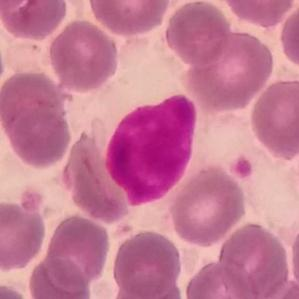Monocyte: (84, 39, 210, 213)
Platelets: (17, 179, 51, 215), (230, 155, 254, 180)
RBC: (179, 26, 277, 112), (58, 125, 140, 226), (166, 164, 249, 248), (216, 219, 292, 299), (0, 68, 70, 150), (45, 17, 120, 93), (43, 211, 113, 290), (108, 228, 184, 297), (4, 104, 74, 171), (161, 0, 232, 66), (246, 75, 299, 160), (0, 196, 49, 272), (85, 0, 172, 37), (182, 258, 256, 299), (26, 254, 93, 299), (1, 0, 70, 41), (218, 0, 299, 28), (106, 273, 188, 299), (276, 0, 299, 73), (252, 276, 299, 299), (287, 215, 299, 299), (0, 280, 34, 299), (0, 28, 7, 98), (0, 0, 38, 10)
